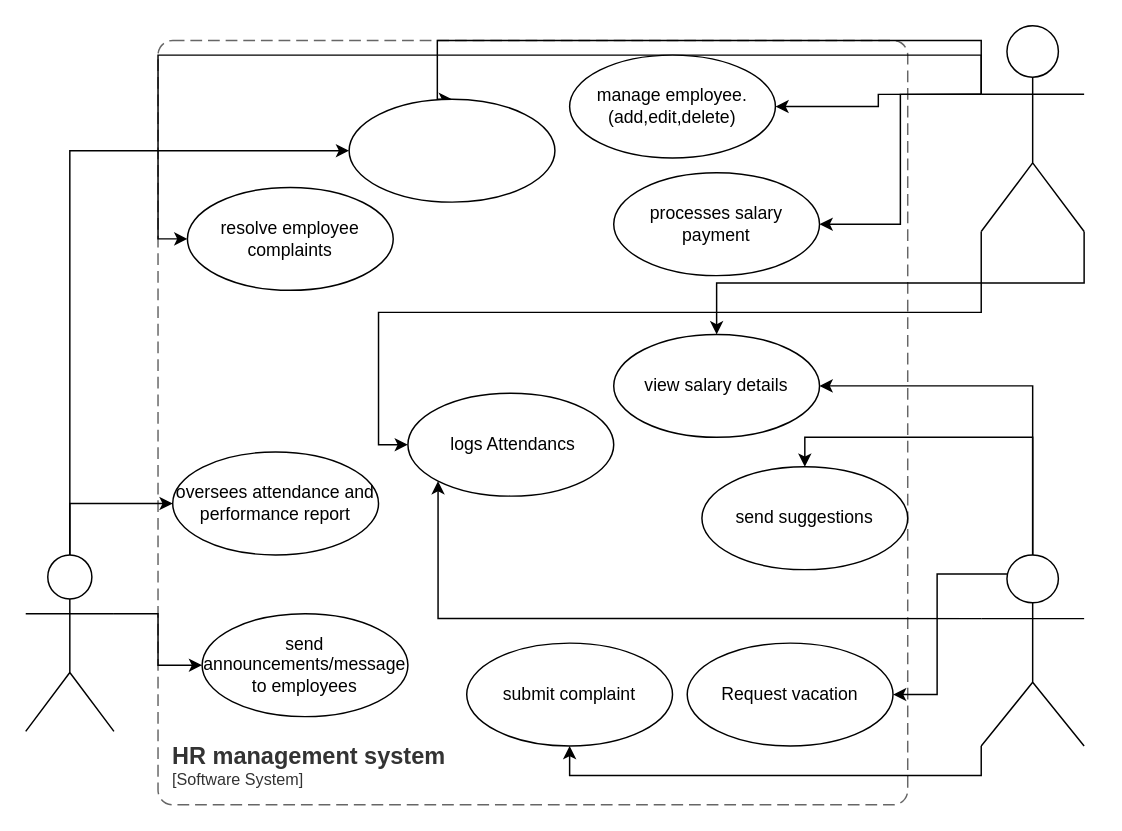
Image size: 1122x831. Some labels were removed from this diagram. Each missing label, with the box of its shape:
approves or reject vacation request: (348, 98, 555, 202)
Employee: (980, 553, 1084, 746)
HR: (980, 24, 1084, 232)
Manager: (24, 553, 114, 731)
